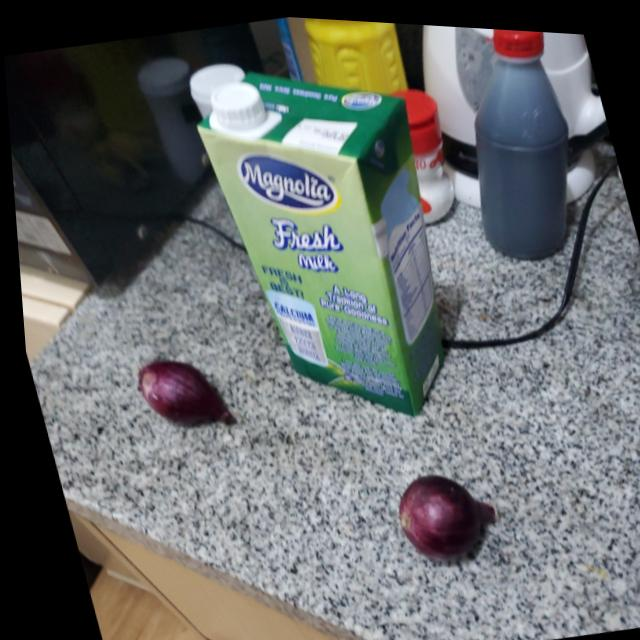milk: (181, 40, 483, 443)
onion: (377, 457, 504, 574), (128, 346, 234, 444)
